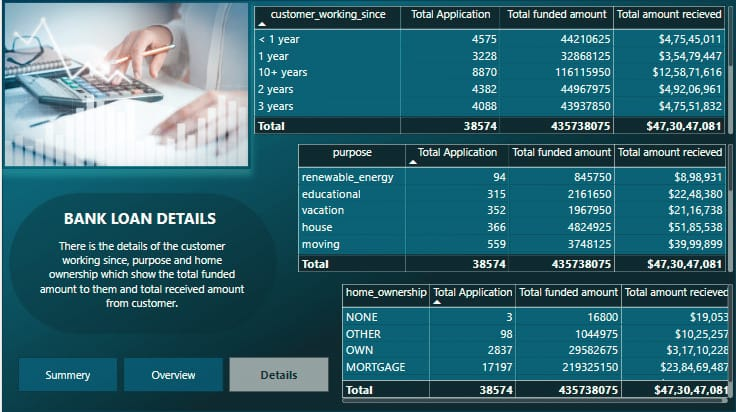

This screenshot's page, from the dashboard's own definition file:
{"tool":"powerbi","page":{"name":"Details","canvas":[1280,720],"ordinal":3},"visuals":[{"type":"pageNavigator","box":[27.9,622.6,542.3,61],"z":3},{"type":"tableEx","fields":{"Values":["financial_loandata bankloan.customer_working_since","financial_loandata bankloan.Total Application","financial_loandata bankloan.Total funded amount","financial_loandata bankloan.Total amount recieved"]},"box":[434.2,5.2,845.8,233.7],"z":4},{"type":"tableEx","fields":{"Values":["financial_loandata bankloan.purpose","financial_loandata bankloan.Total Application","financial_loandata bankloan.Total funded amount","financial_loandata bankloan.Total amount recieved"]},"box":[510.5,245.8,769.5,234.2],"z":5},{"type":"tableEx","fields":{"Values":["financial_loandata bankloan.home_ownership","financial_loandata bankloan.Total Application","financial_loandata bankloan.Total funded amount","financial_loandata bankloan.Total amount recieved"]},"box":[587.6,490.2,692.4,218.2],"z":6},{"type":"shape","box":[12.2,336.6,467.4,245.9],"z":7},{"type":"image","box":[0,0,434.2,294.7],"z":8},{"type":"textbox","box":[59.3,357.5,369.7,207.5],"z":9}]}

Visuals, with their boxes in screenshot pixels (x1, y1, x2, y2), scaled from the page's 1280x720 canvas onto the 736x412 screenshot:
pageNavigator: {"left": 16, "top": 356, "right": 328, "bottom": 391}
tableEx - financial_loandata bankloan.customer_working_since x financial_loandata bankloan.Total Application: {"left": 250, "top": 3, "right": 735, "bottom": 137}
tableEx - financial_loandata bankloan.purpose x financial_loandata bankloan.Total Application: {"left": 294, "top": 141, "right": 735, "bottom": 275}
tableEx - financial_loandata bankloan.home_ownership x financial_loandata bankloan.Total Application: {"left": 338, "top": 281, "right": 735, "bottom": 405}
shape: {"left": 7, "top": 193, "right": 276, "bottom": 333}
image: {"left": 0, "top": 0, "right": 250, "bottom": 169}
textbox: {"left": 34, "top": 205, "right": 247, "bottom": 323}
